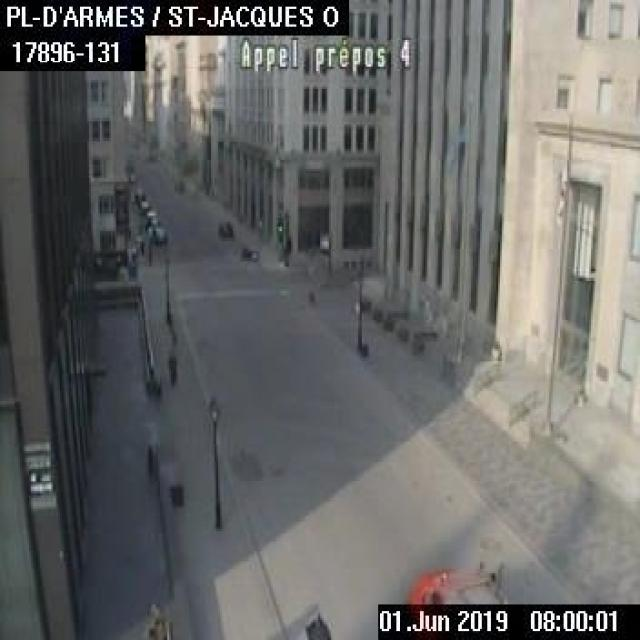vehicle: (404, 562, 509, 602), (144, 219, 167, 243), (216, 218, 232, 234), (144, 210, 158, 223), (138, 198, 150, 212)
